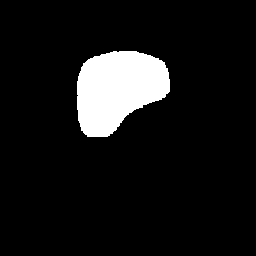mass: (73, 48, 172, 140)
